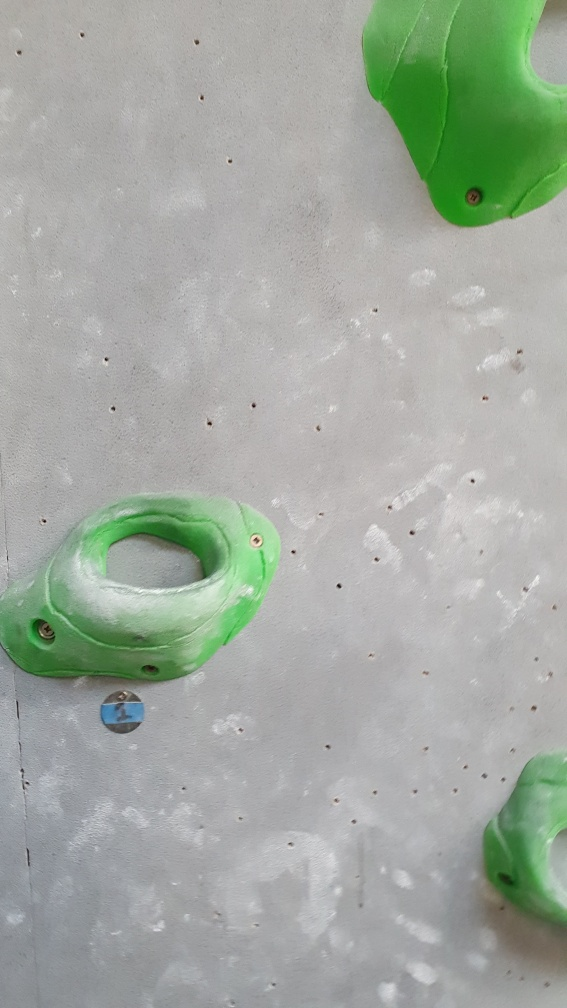Hand Start: (94, 684, 150, 738)
Pocket: (1, 488, 285, 687)
